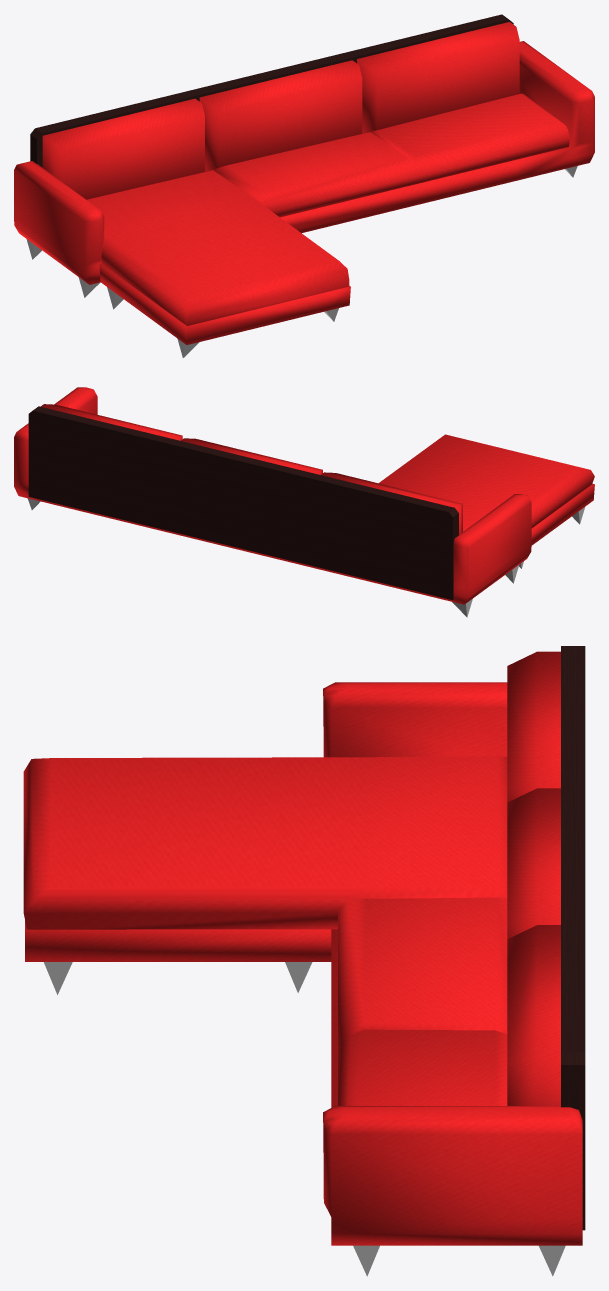
The model's file is Chaise_Sofa_B_02.FBX.
3 renders of one model, top to bottom at view 1: azimuth 30°, elevation 25°; view 2: azimuth 150°, elevation 25°; view 3: azimuth 270°, elevation 25°, orthographic. The views are drawn at different scales.
Visible parts, largest first — view 1: Chaise_Sofa_B; view 2: Chaise_Sofa_B; view 3: Chaise_Sofa_B.
Part boxes in pixels (x1,y1,x2,y2): Chaise_Sofa_B: [14, 14, 594, 357]; Chaise_Sofa_B: [14, 387, 594, 617]; Chaise_Sofa_B: [23, 646, 585, 1276].
Bounding box in the file's own units: 685 × 157 × 366.
